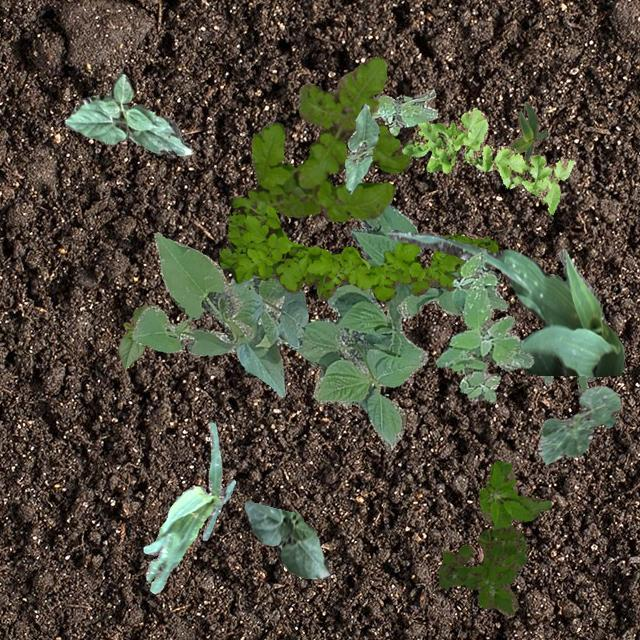crop: (294, 203, 506, 452), (388, 228, 622, 376), (130, 232, 308, 396), (143, 422, 235, 592), (65, 72, 192, 156), (242, 500, 330, 578), (536, 386, 620, 464), (344, 102, 378, 192), (118, 304, 158, 368), (508, 100, 546, 162), (358, 218, 364, 228)
weed: (218, 197, 498, 300), (248, 56, 410, 220), (400, 106, 572, 214), (434, 252, 532, 402), (438, 524, 526, 616), (478, 460, 550, 540), (371, 89, 436, 134), (543, 374, 595, 392)
